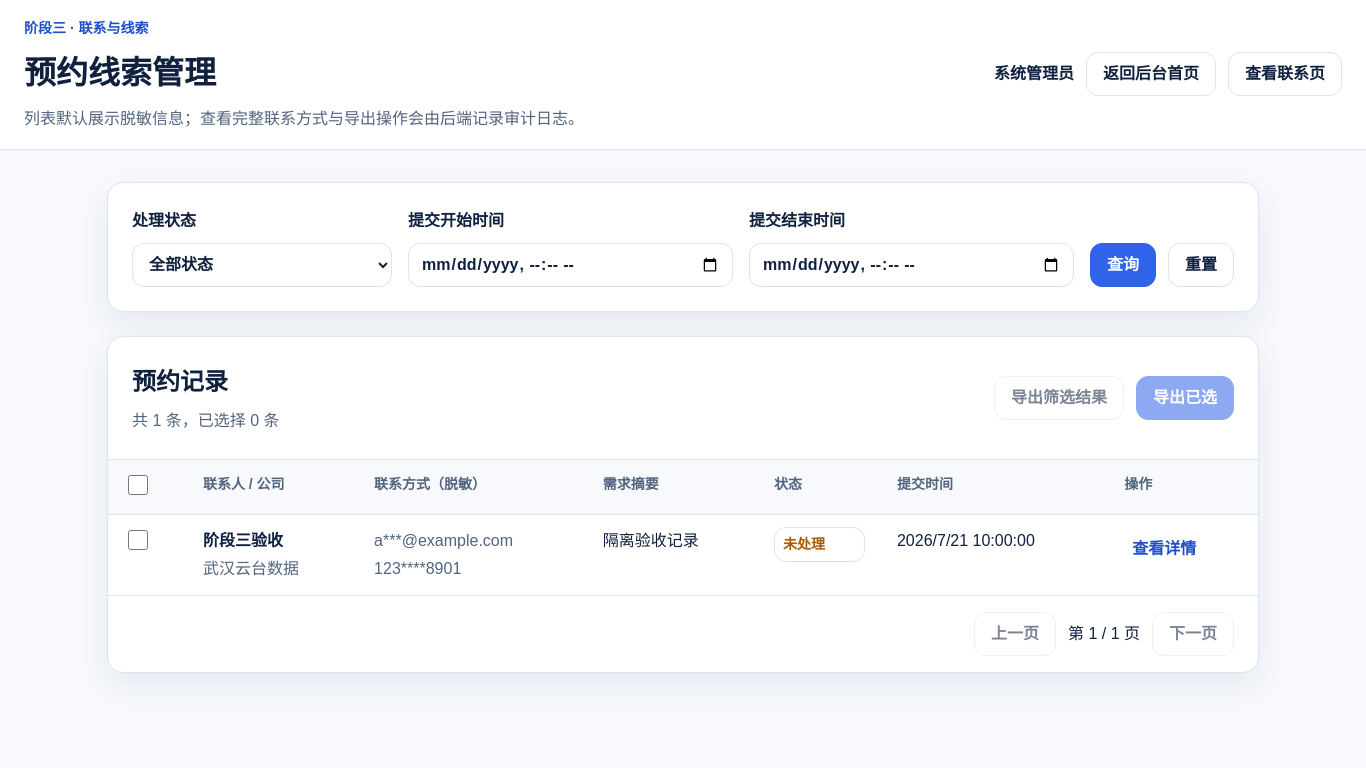
LeadManagement › keeps the list masked, opens audited detail and updates status
This screenshot has width=1366, height=768.
Expected: the text "a***@example.com" is shown, x1=374 y1=532 x2=513 y2=549
Expected: the text "acceptance@example.com" is not shown
Click the button "查看详情" at point(1164, 549), box x1=1124 y1=527 x2=1204 y2=571
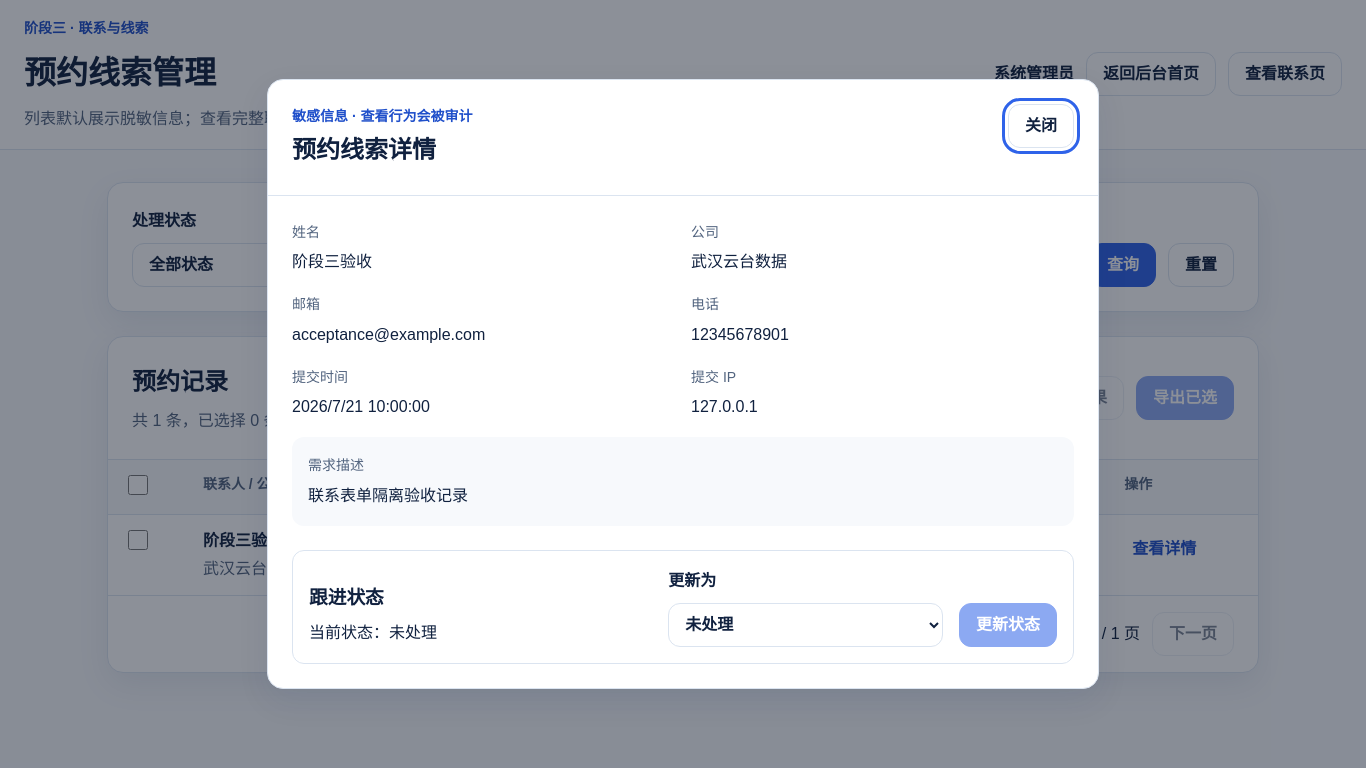
Now the text "acceptance@example.com" is shown, box x1=292 y1=326 x2=485 y2=343
Select "处理中" in the dropdown labelled "更新为" at point(806, 625), box x1=668 y1=603 x2=943 y2=647
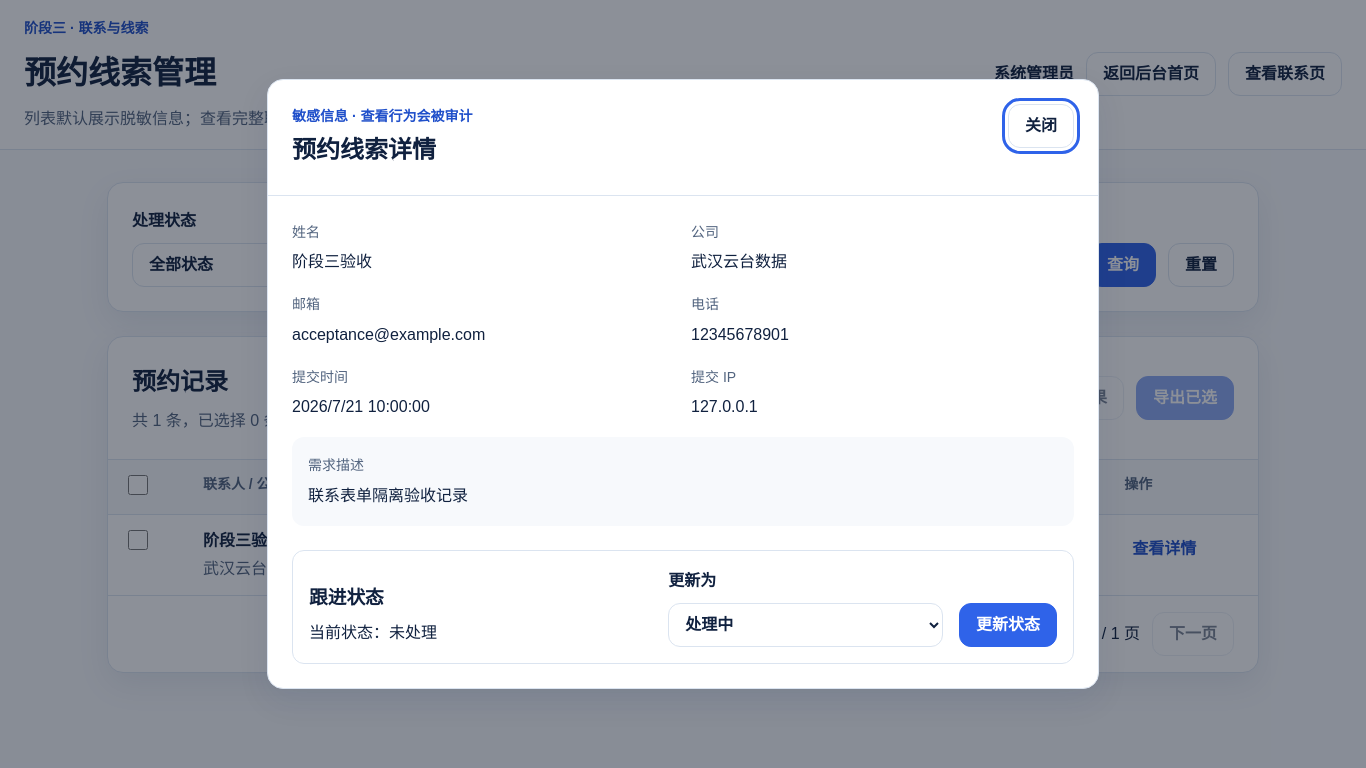
Click the button "更新状态" at point(1008, 625), box x1=959 y1=603 x2=1057 y2=647
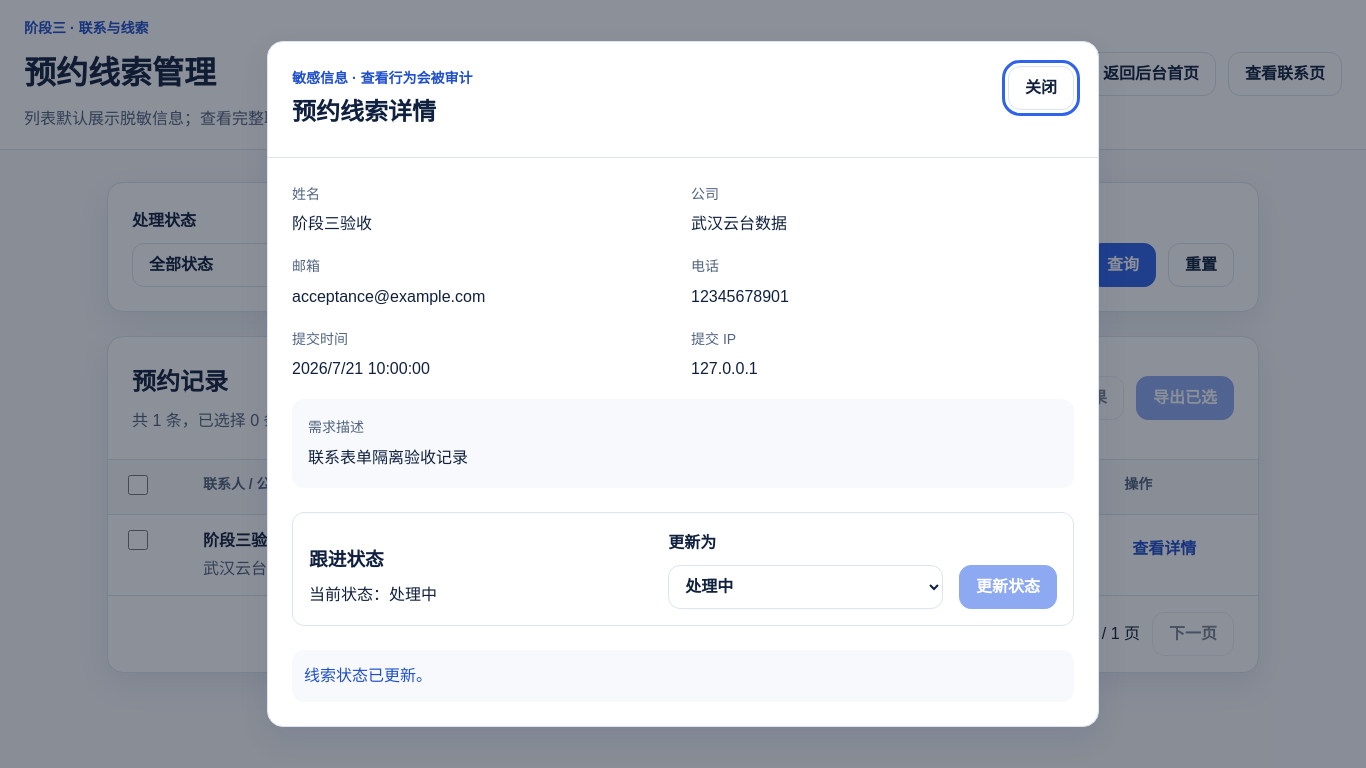
Now the text "线索状态已更新。" is shown, box x1=292 y1=650 x2=1074 y2=702
